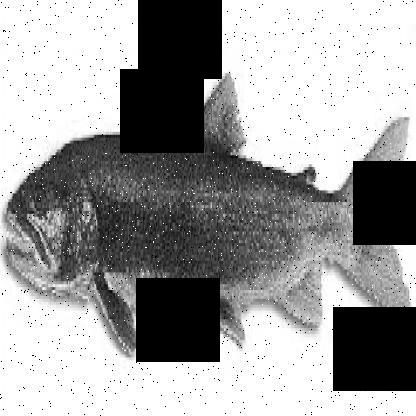fish: (0, 63, 412, 360)
